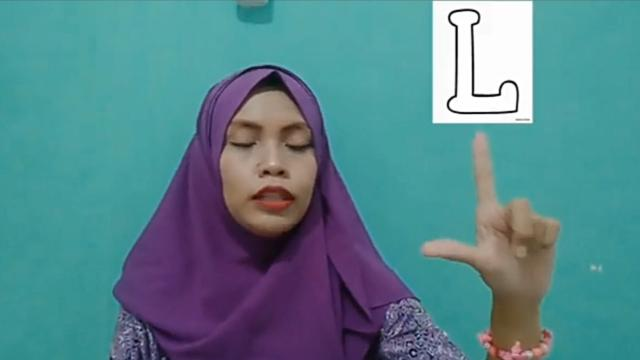L: (420, 130, 562, 298)
